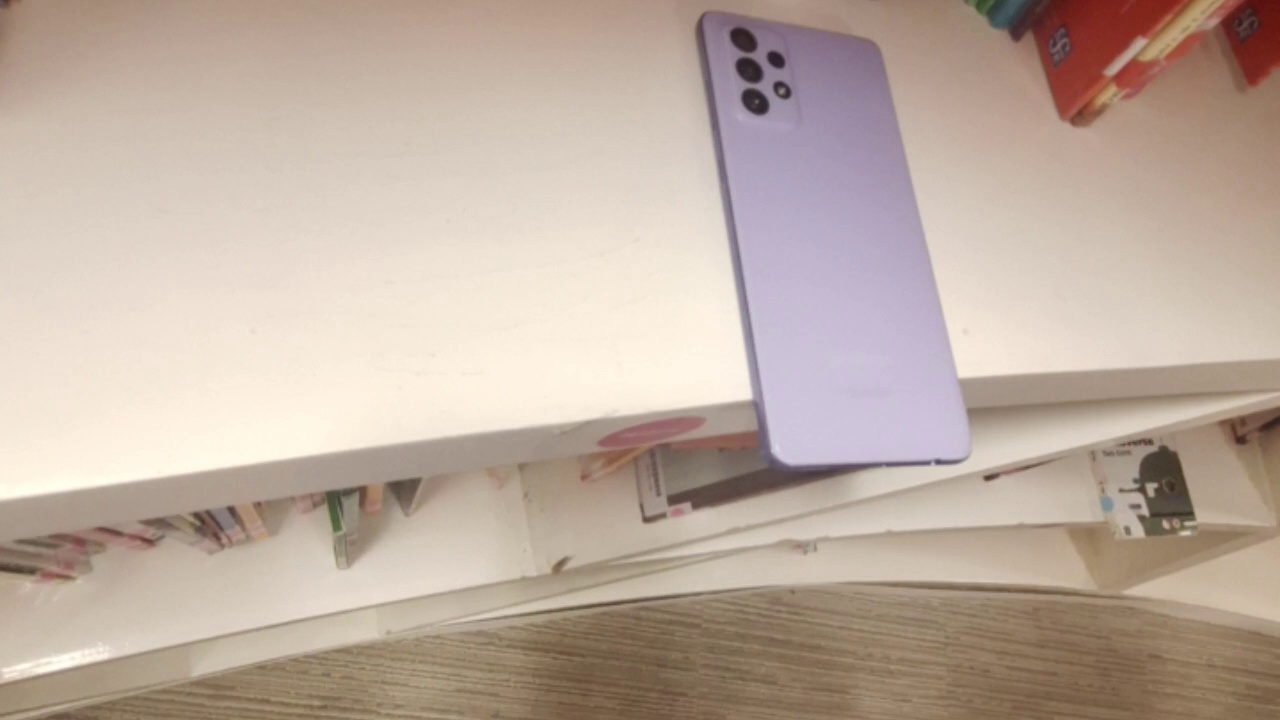celular: (698, 12, 973, 473)
